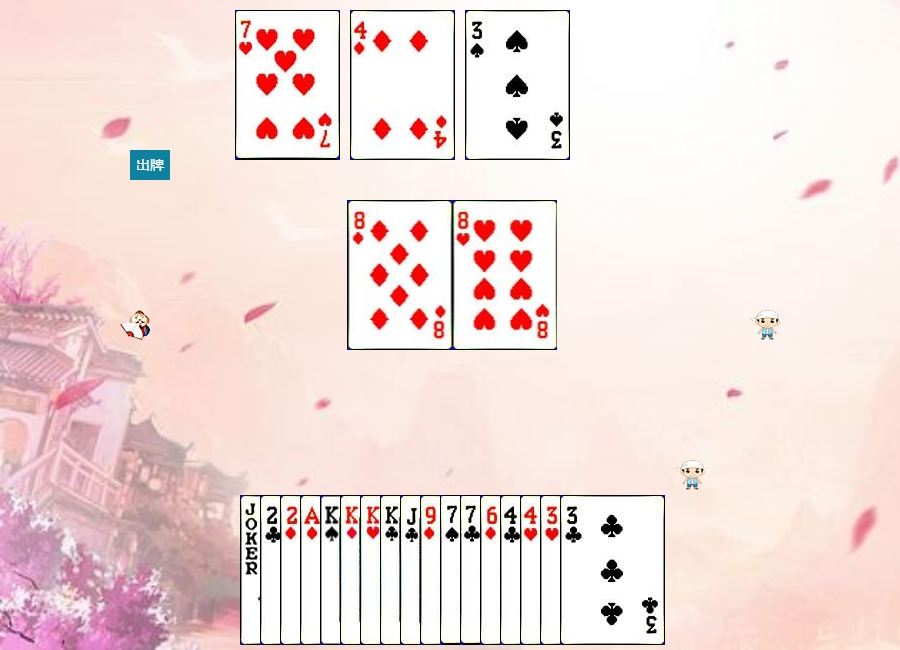11~2: (400, 495, 505, 645)
13~1: (340, 495, 445, 645)
13~2: (380, 495, 485, 645)
13~3: (360, 495, 465, 645)
13~4: (320, 495, 425, 645)
14~1: (300, 495, 405, 645)
15~1: (280, 495, 385, 645)
15~2: (260, 495, 365, 645)
17~3: (240, 495, 345, 645)
3~2: (560, 495, 665, 645)
3~3: (540, 495, 645, 645)
3~4: (465, 10, 570, 160)
4~1: (350, 10, 455, 160)
4~2: (500, 495, 605, 645)
4~3: (520, 495, 625, 645)
6~1: (480, 495, 585, 645)
7~2: (460, 495, 565, 645)
7~3: (235, 10, 340, 160)
7~4: (440, 495, 545, 645)
8~1: (348, 200, 453, 350)
8~3: (453, 200, 558, 350)
9~1: (420, 495, 525, 645)
